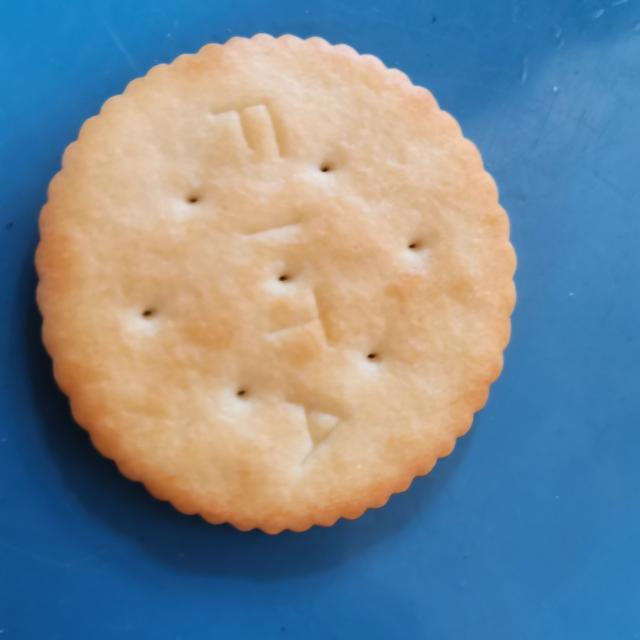Intact: (30, 26, 532, 543)
